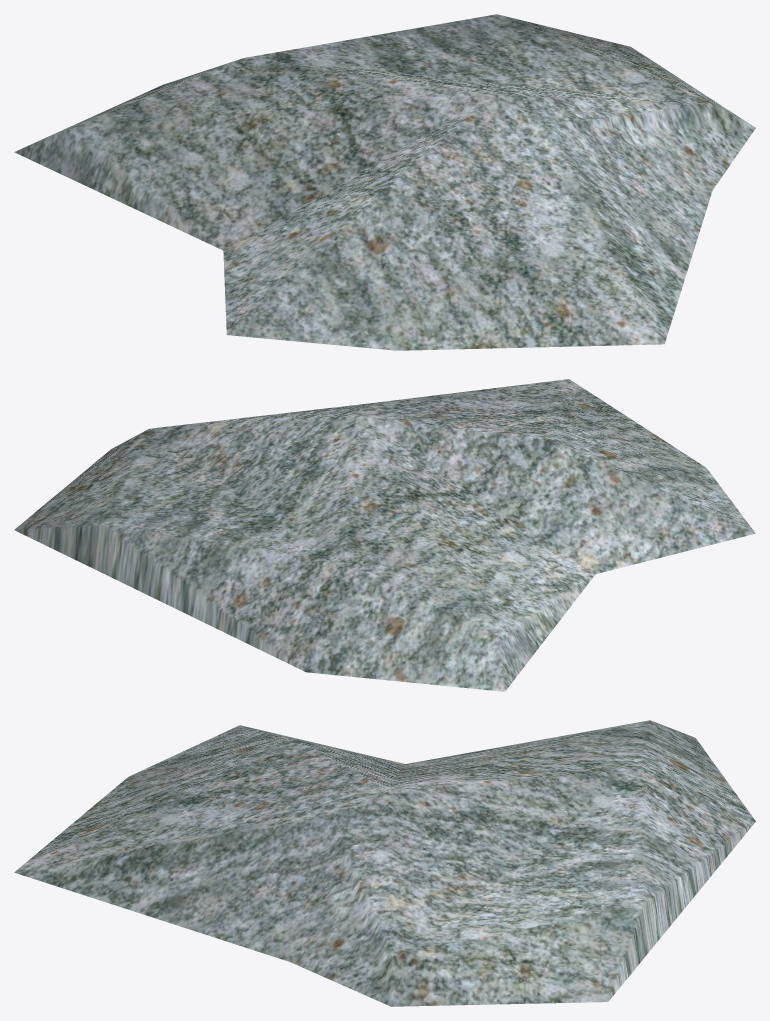
The model's file is rock_graniteslab_medium_a1_l2.fbx.
The picture shows the model from 3 angles, top to bottom: view 1: azimuth 30°, elevation 25°; view 2: azimuth 150°, elevation 25°; view 3: azimuth 270°, elevation 25°; orthographic projection. The views are drawn at different scales.
Parts seen in each view (by area): view 1: mesh_node; view 2: mesh_node; view 3: mesh_node.
Boxes of the visible parts, <box> form: mesh_node: <box>14,14,755,350</box>; mesh_node: <box>14,379,755,691</box>; mesh_node: <box>14,720,755,1006</box>.
Size of the model in its own units: 1.54 by 0.2375 by 1.71.
